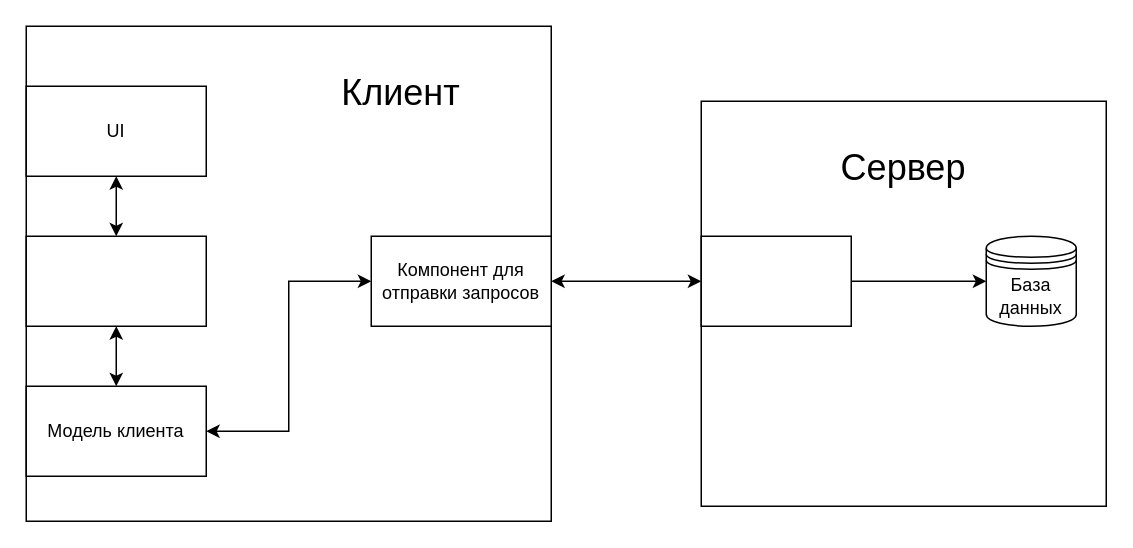
The diagram is 1133 pixels wide and 548 high, and some of its shapes have lost their labels. The centre of each missing label's shape, as x and y in pixels:
Компонент для обработки запросов: (775,280)
Контроллер клиента: (115,280)
